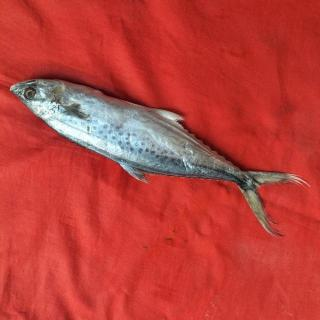Ikan: (2, 66, 308, 252)
